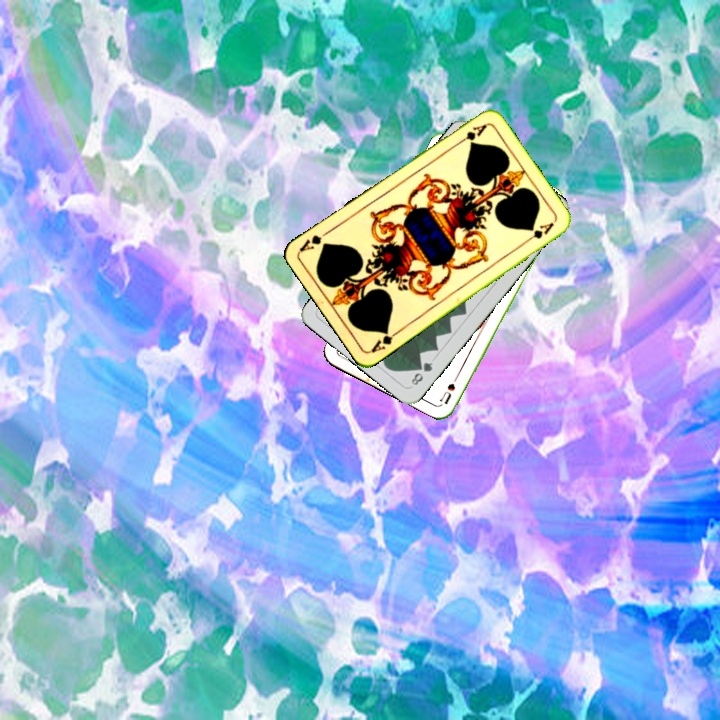G8: (407, 358, 436, 388)
GA: (453, 120, 490, 148), (367, 326, 402, 355)
SU: (437, 367, 463, 406)
